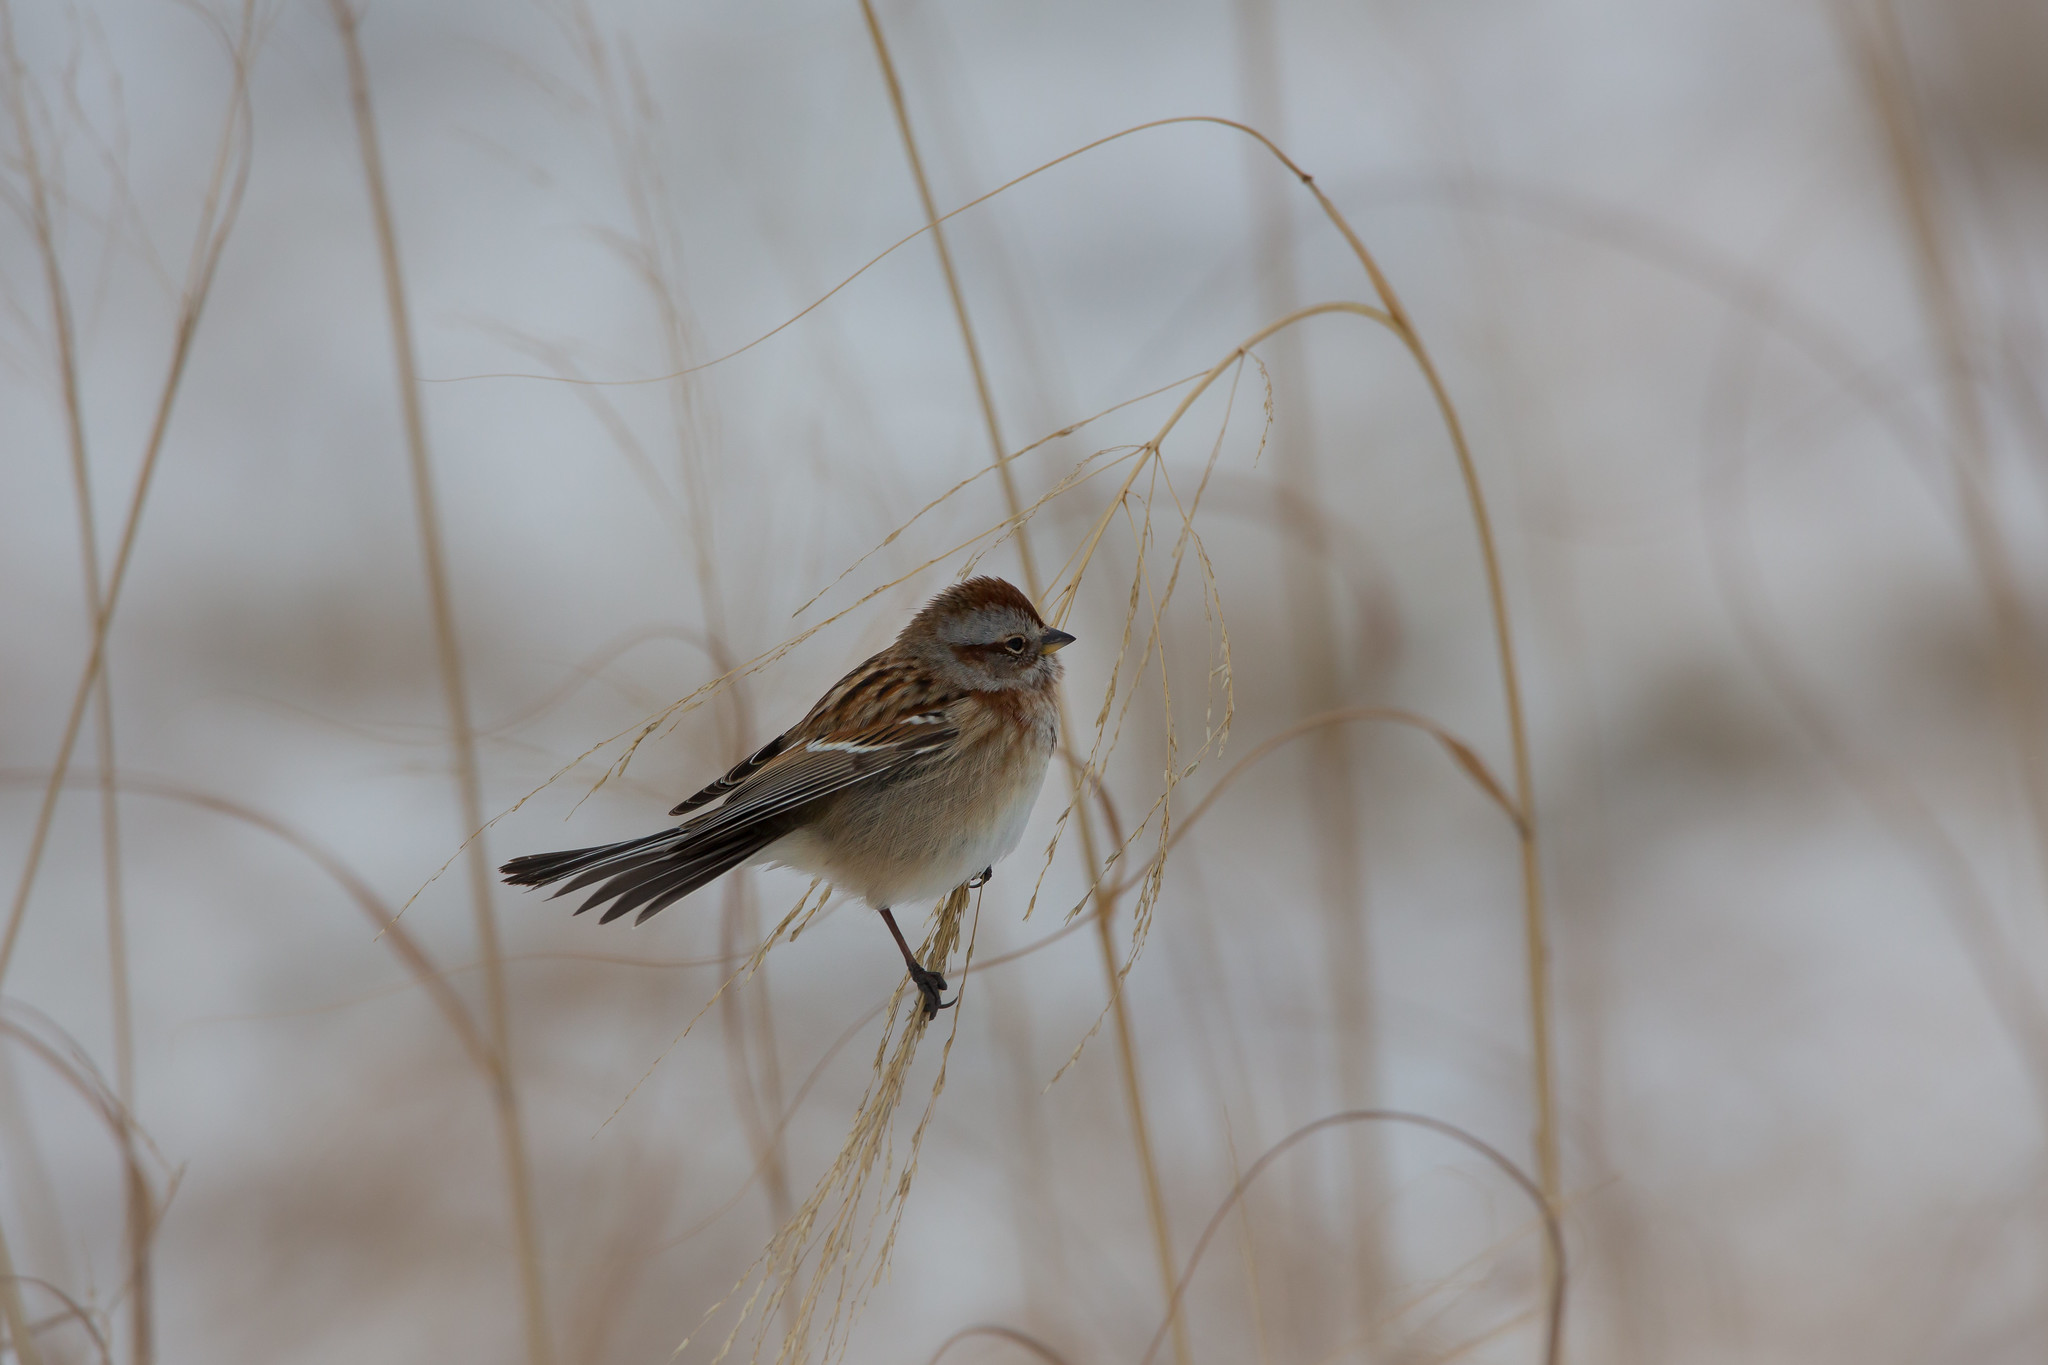bird: (525, 574, 1081, 1015)
